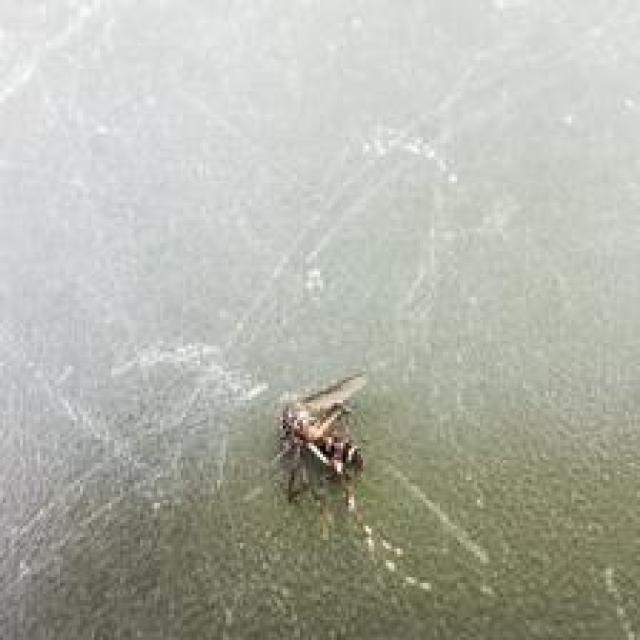Aedes albopictus: (270, 369, 370, 514)
